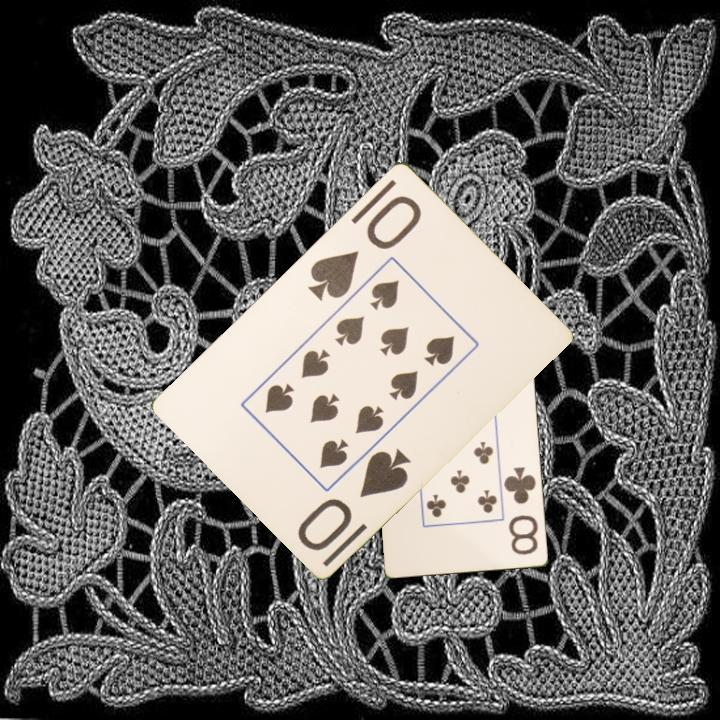10s: (304, 190, 425, 303), (293, 444, 415, 554)
8c: (501, 464, 541, 558)
